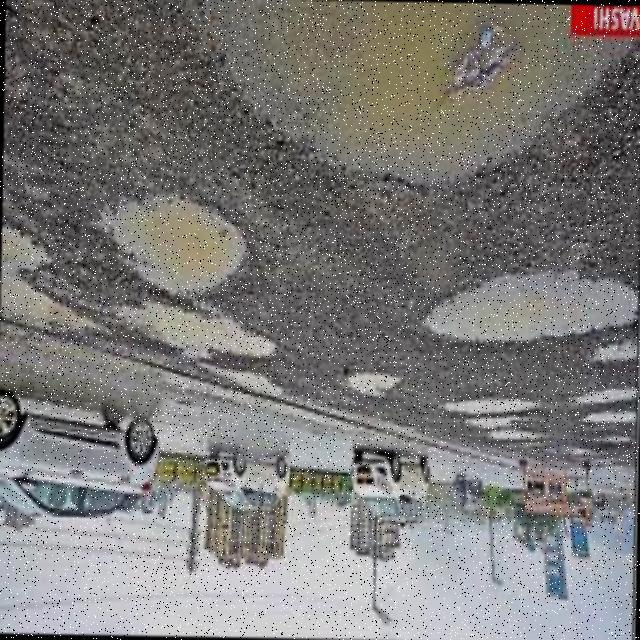Pothole: (208, 0, 635, 180), (419, 267, 637, 341), (99, 193, 247, 292), (117, 306, 277, 359), (348, 370, 401, 395)
